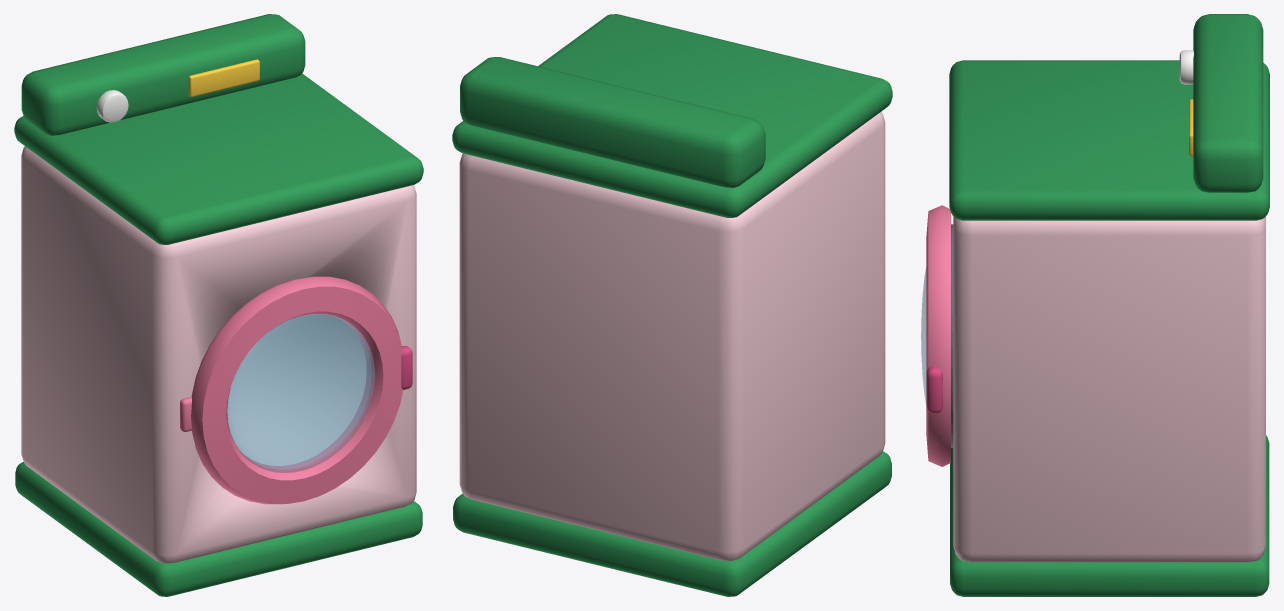
File: maquina_lavar_retro_rosa.glb
The picture shows the model from 3 angles, left to right: view 1: azimuth 30°, elevation 25°; view 2: azimuth 150°, elevation 25°; view 3: azimuth 270°, elevation 25°; orthographic projection. The views are drawn at different scales.
Visible parts, largest first — view 1: maquina_lavar_retro_rosa, porta_maquina; view 2: maquina_lavar_retro_rosa; view 3: maquina_lavar_retro_rosa, porta_maquina.
Part boxes in pixels (<box>): maquina_lavar_retro_rosa: <box>14,14,423,596</box>; porta_maquina: <box>191,276,412,504</box>; maquina_lavar_retro_rosa: <box>452,14,892,596</box>; maquina_lavar_retro_rosa: <box>949,14,1269,596</box>; porta_maquina: <box>921,205,950,466</box>.
Size of the model in its own units: 0.614 by 0.93 by 0.6465.
2 materials, 1 textured.
